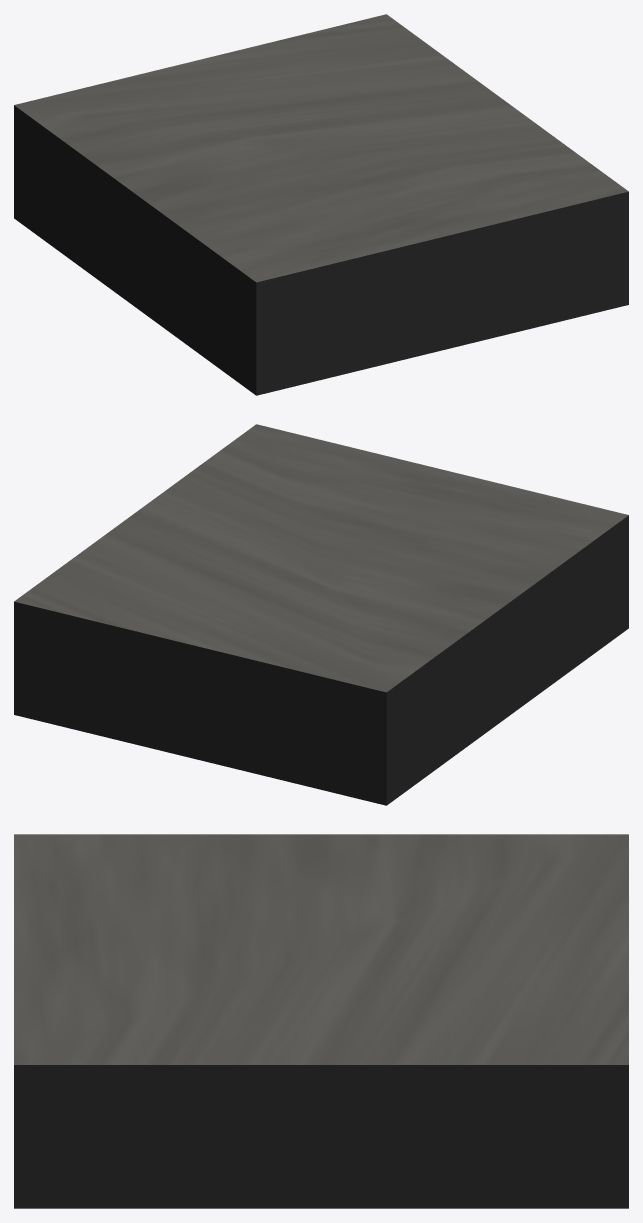
Rendered from Studio.fbx.
The picture shows the model from 3 angles, top to bottom: view 1: azimuth 30°, elevation 25°; view 2: azimuth 150°, elevation 25°; view 3: azimuth 270°, elevation 25°; orthographic projection. The views are drawn at different scales.
Visible parts, largest first — view 1: Studio; view 2: Studio; view 3: Studio.
Boxes of the visible parts, <box> form: Studio: <box>14,14,628,395</box>; Studio: <box>14,424,628,805</box>; Studio: <box>14,834,628,1208</box>.
Bounding box in the file's own units: 33.13 × 9.63 × 37.33.
